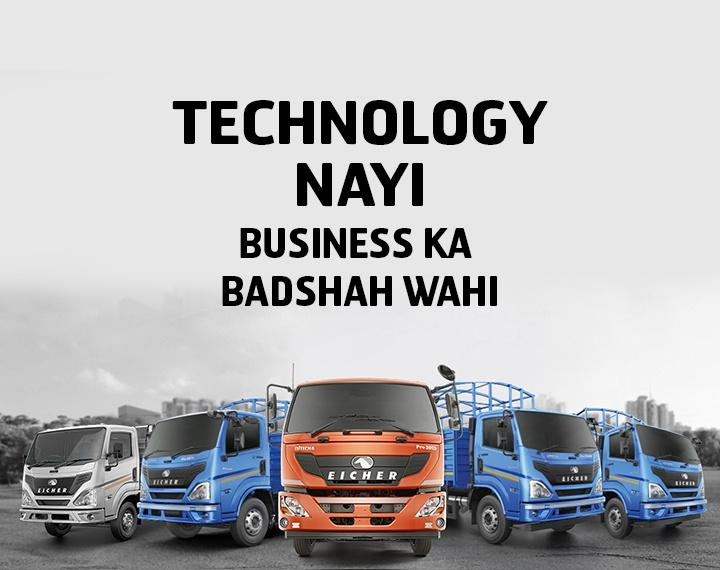truck: (278, 376, 448, 556), (432, 381, 605, 545), (136, 396, 288, 547), (576, 406, 707, 539), (18, 422, 153, 541)
